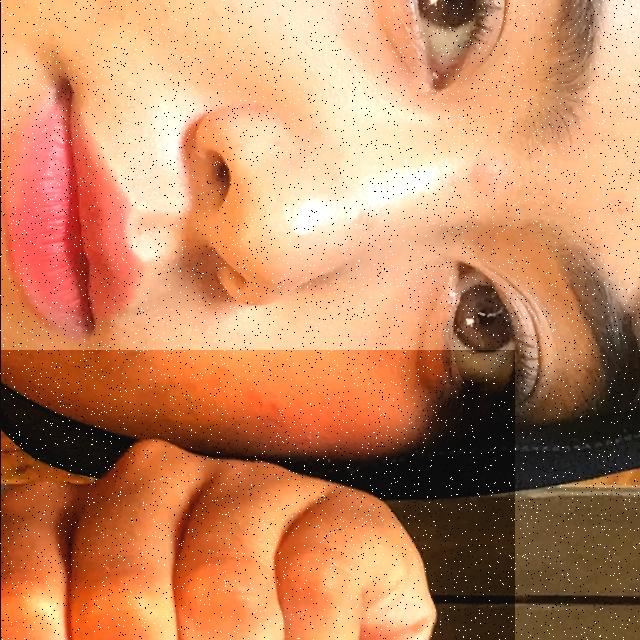sedih: (0, 350, 514, 640)
